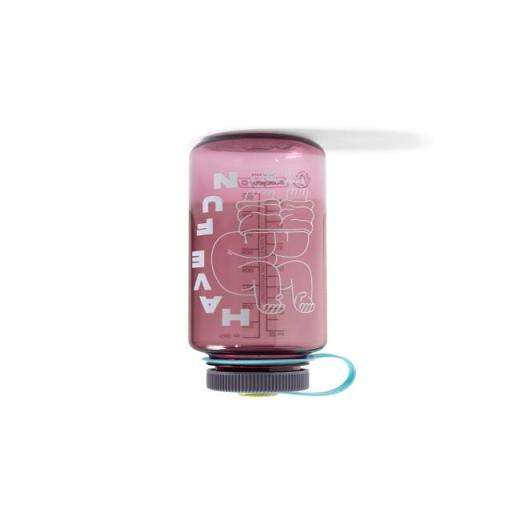bottle: (187, 136, 358, 396)
